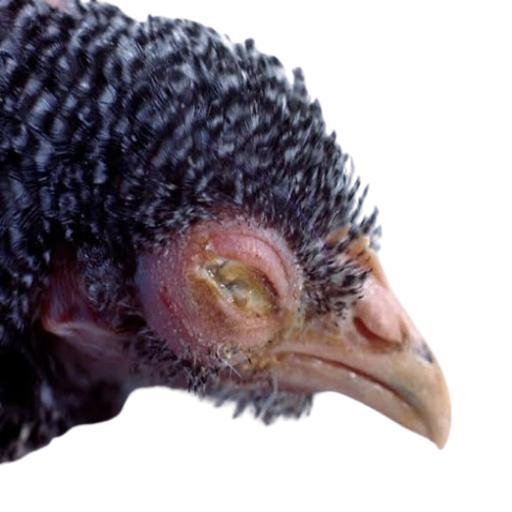disease: (178, 201, 362, 364)
